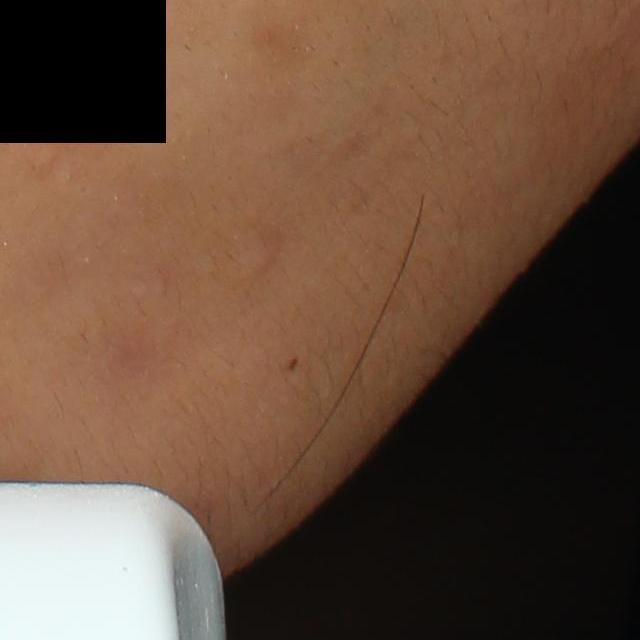nevus: (285, 355, 300, 372)
